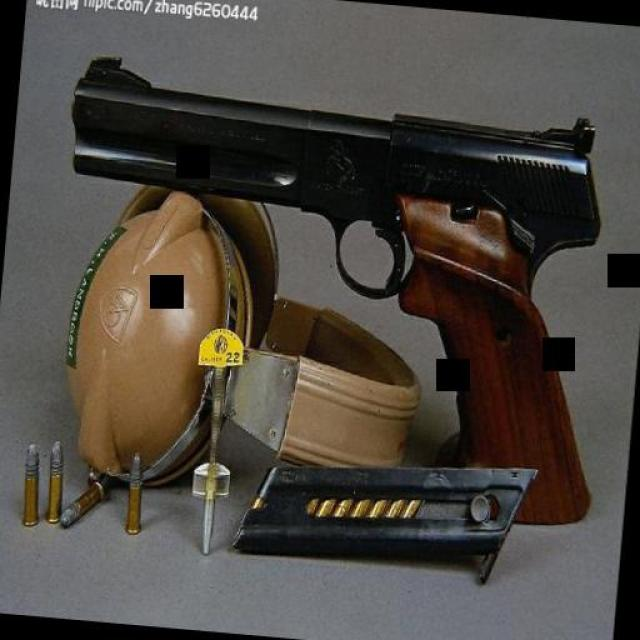gun: (33, 45, 628, 539)
